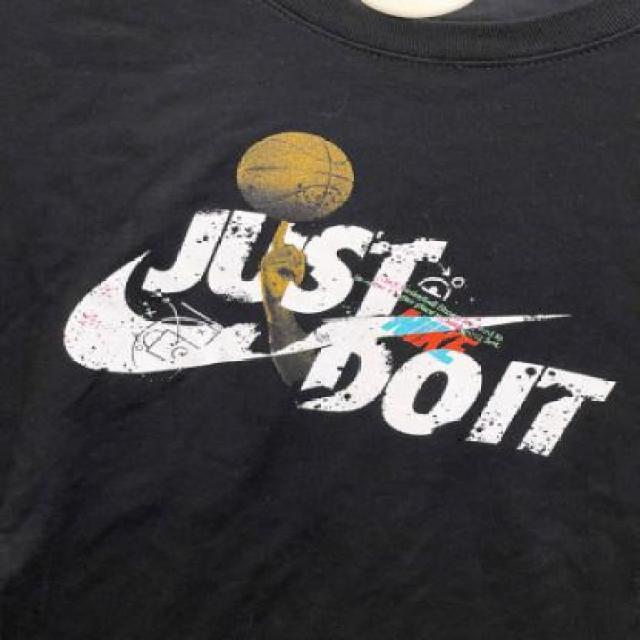Nike: (49, 246, 603, 377)
